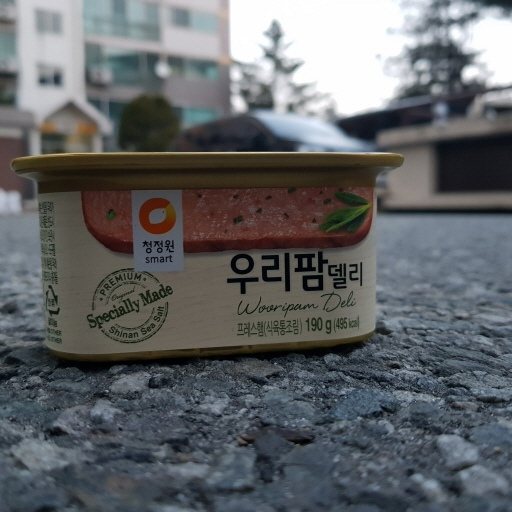Metal_2: (8, 136, 405, 354)
